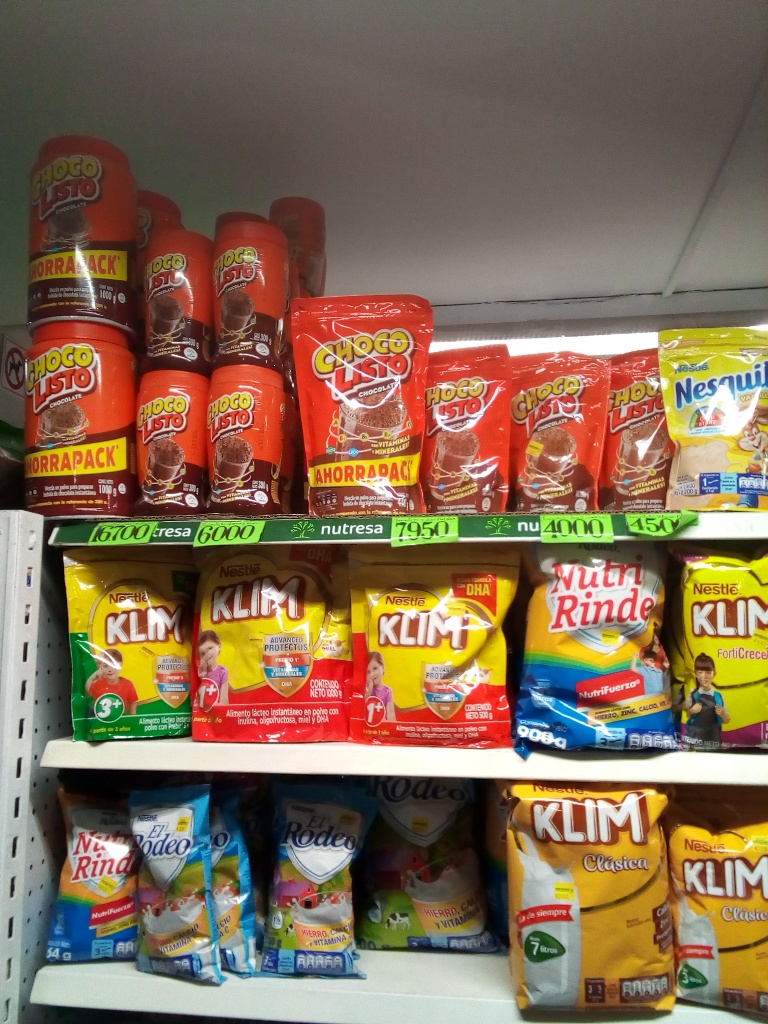COL0170103DYP44000: (293, 283, 426, 515)
COL0170103TRR00100: (27, 141, 136, 343)
